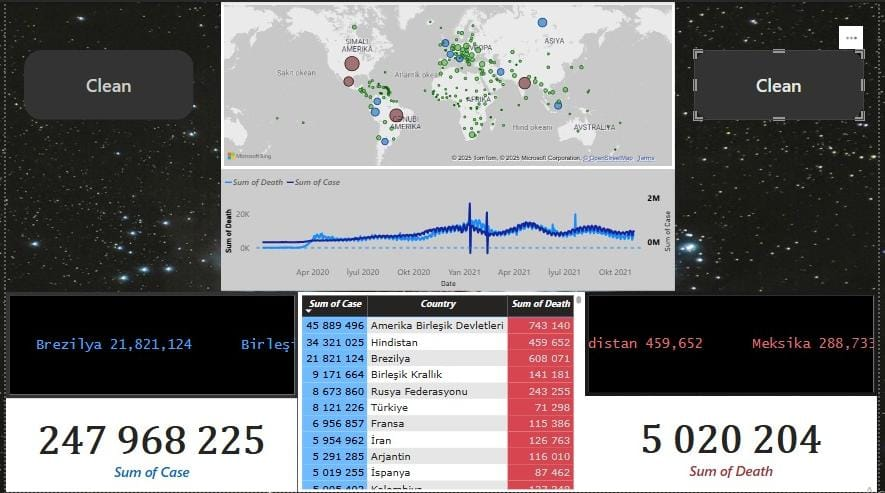

The dashboard page shown, as its layout file describes it:
{"tool":"powerbi","page":{"name":"Page 1","canvas":[1280,720],"ordinal":0},"visuals":[{"type":"tableEx","fields":{"Values":["Sum(Data.Case)","Country.Country","Sum(Data.Death)"]},"box":[428.6,425.4,422.2,295.2],"z":0},{"type":"card","fields":{"Values":["Sum(Data.Case)"]},"box":[0,581.5,427.7,138.5],"z":1},{"type":"card","fields":{"Values":["Sum(Data.Death)"]},"box":[850.8,578.5,429.2,141.5],"z":2},{"type":"map","fields":{"Category":["Country.Country"],"X":["Avg(Data.Case)"],"Size":["Sum(Data.Death)"]},"box":[315.9,0,666.7,246],"z":3},{"type":"ScrollingTextVisual1448795304508","fields":{"Category":["Country.Country"],"Measure Absolute":["Sum(Data.Case)"]},"box":[0,425.4,428.6,155.6],"z":4},{"type":"ScrollingTextVisual1448795304508","fields":{"Category":["Country.Country"],"Measure Absolute":["Sum(Data.Death)"]},"box":[850.8,425.4,428.6,152.4],"z":5},{"type":"lineChart","fields":{"Category":["Data.Date"],"Y":["Sum(Data.Death)"],"Y2":["Sum(Data.Case)"]},"box":[315.9,246,666.7,179.4],"z":6},{"type":"shape","box":[26.6,70.9,249.4,102.5],"z":7},{"type":"shape","box":[1011.4,70.9,249.4,102.5],"z":8}]}

Visuals, with their boxes in screenshot pixels (x1, y1, x2, y2), scaled from the page's 1280x720 canvas onto the 885x493 screenshot:
tableEx - Sum(Data.Case) x Country.Country: region(296, 291, 588, 492)
card - Sum(Data.Case): region(0, 398, 296, 492)
card - Sum(Data.Death): region(588, 396, 884, 492)
map - Country.Country x Avg(Data.Case): region(218, 0, 679, 168)
ScrollingTextVisual1448795304508 - Country.Country x Sum(Data.Case): region(0, 291, 296, 398)
ScrollingTextVisual1448795304508 - Country.Country x Sum(Data.Death): region(588, 291, 884, 396)
lineChart - Data.Date x Sum(Data.Death): region(218, 168, 679, 291)
shape: region(18, 49, 191, 119)
shape: region(699, 49, 872, 119)
